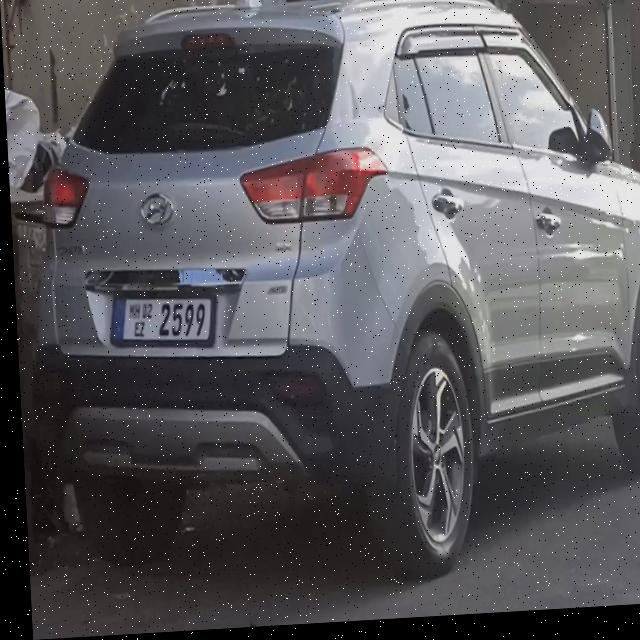plate: (104, 288, 214, 352)
